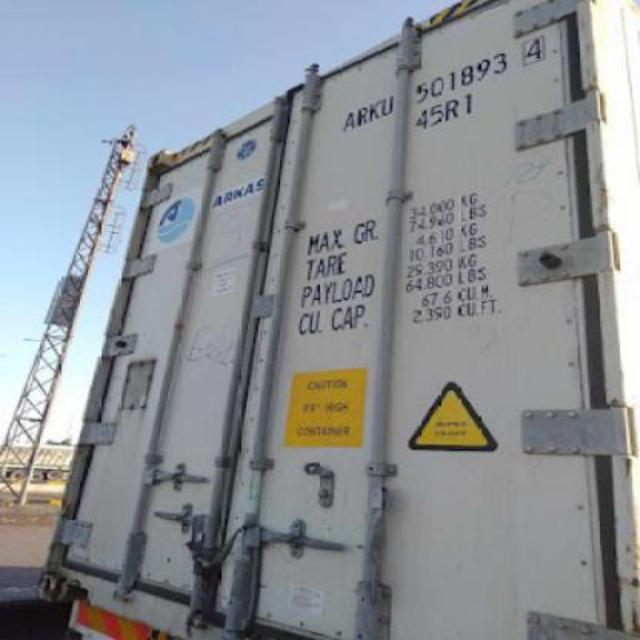0: (428, 76, 446, 96)
1: (448, 70, 456, 92)
3: (492, 54, 506, 74)
4: (524, 38, 544, 62)
5: (414, 83, 430, 103)
8: (460, 64, 476, 86)
9: (476, 56, 489, 82)
A: (340, 111, 356, 132)
K: (368, 102, 380, 120)
R: (356, 106, 369, 124)
U: (380, 97, 396, 117)
